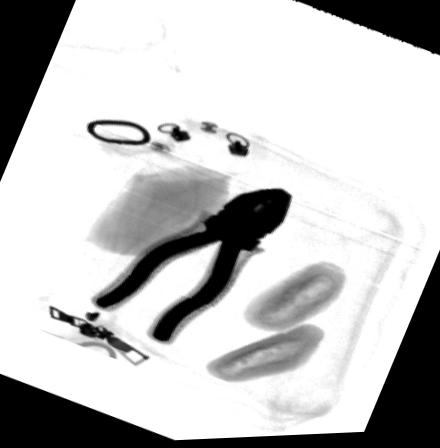Pliers: (87, 188, 295, 346)
